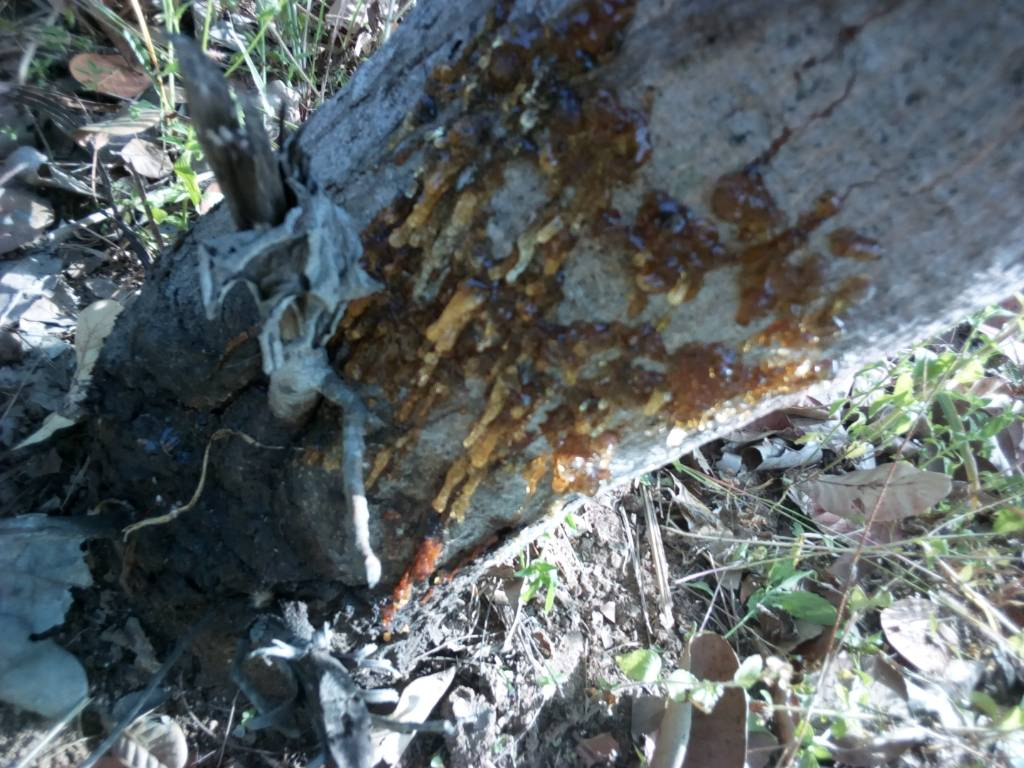Gommose: (349, 23, 656, 486), (664, 182, 820, 419)
